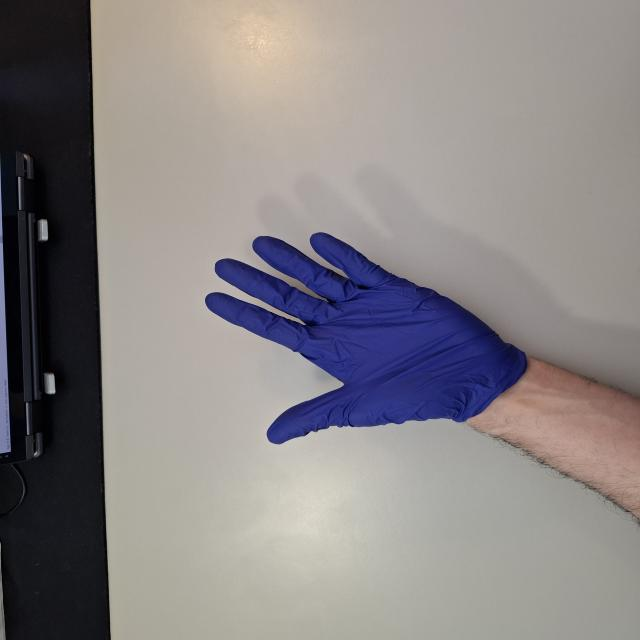glove_on: (201, 228, 533, 448)
